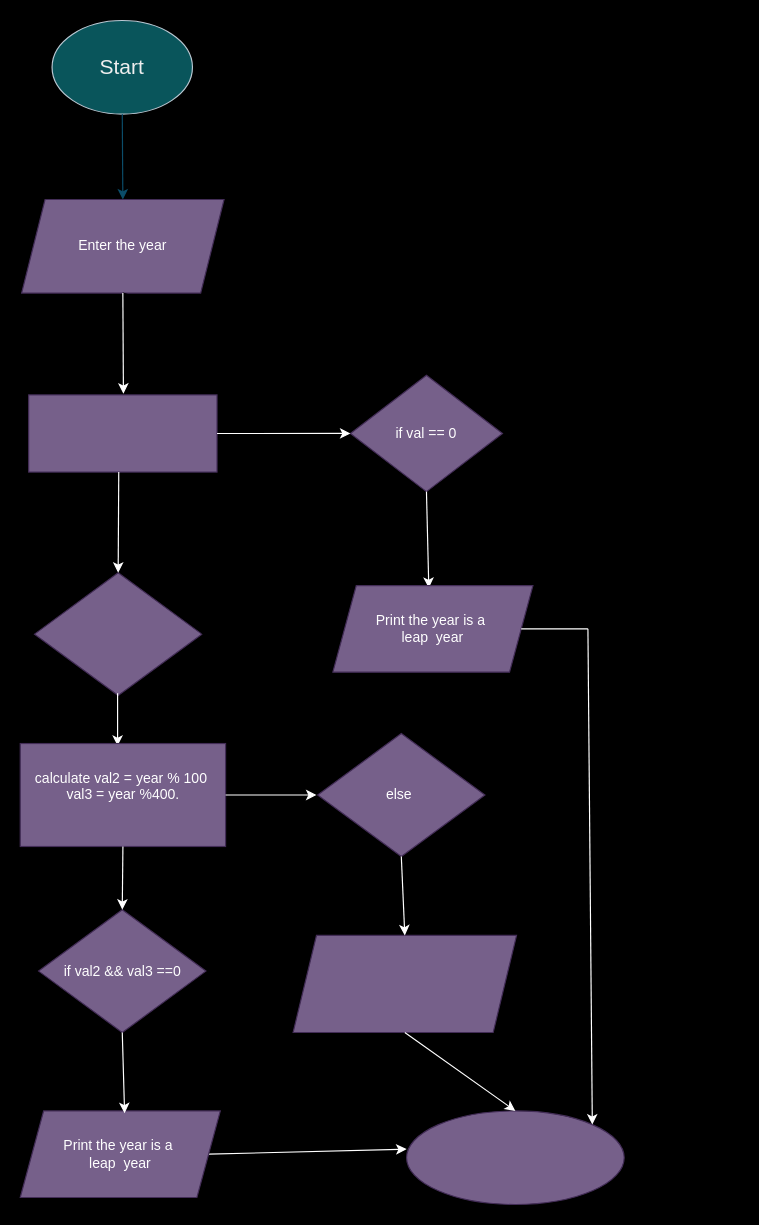
The diagram is 759 pixels wide and 1225 high, and some of its shapes have lost their labels. The centre of each missing label's shape, as x and y in pixels:
"Calculate val = year%4" goes at (122,433).
"if val != 0" goes at (117,634).
"print the year is not a leap year" goes at (404,983).
"Stop" goes at (514,1157).
